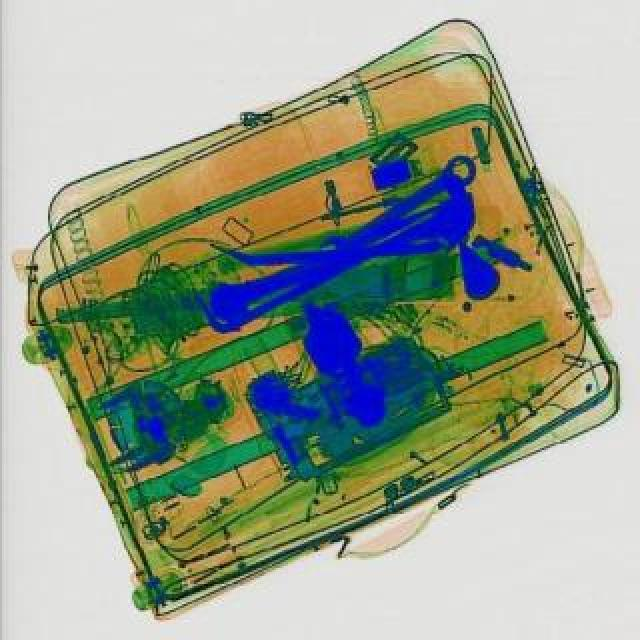scissors: (316, 146, 486, 266)
